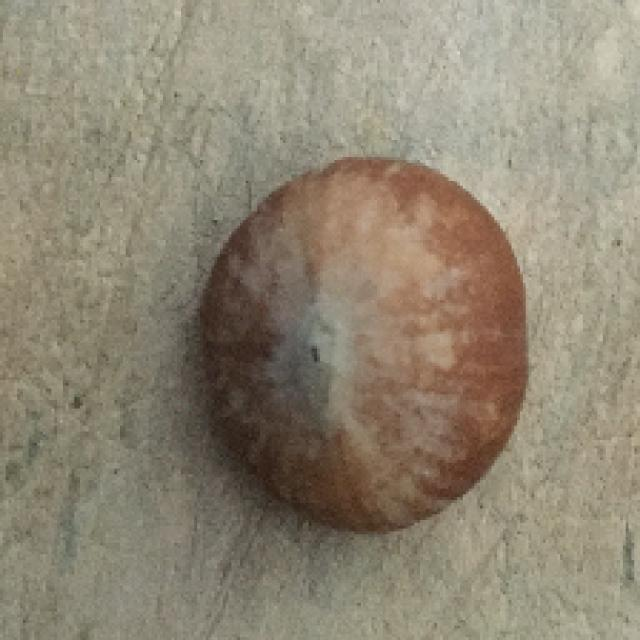QualityHazelnut: (197, 159, 534, 534)
